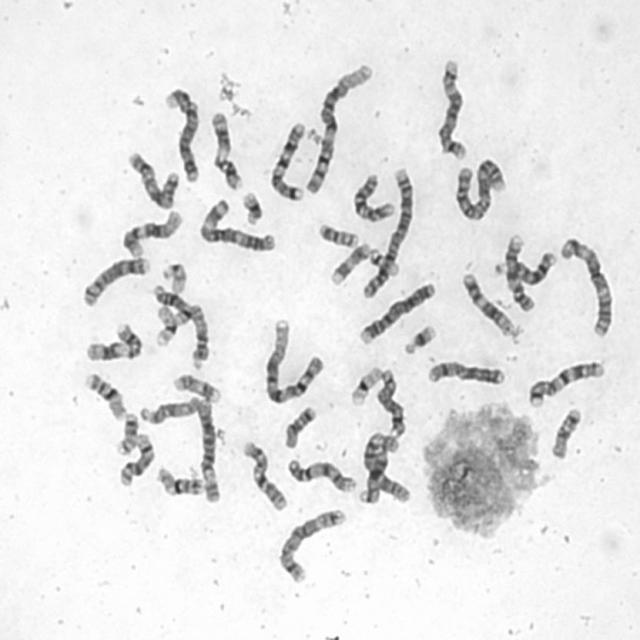A1: (304, 62, 374, 196), (260, 318, 326, 406)
A2: (362, 166, 415, 300), (453, 154, 509, 222)
A3: (558, 235, 614, 338), (198, 198, 276, 254)
B4: (358, 280, 437, 346), (162, 85, 204, 185)
B5: (274, 508, 350, 587), (436, 58, 469, 162)
C10: (237, 440, 289, 516), (352, 173, 397, 224)
C11: (84, 320, 144, 364), (210, 110, 243, 190)
C12: (462, 271, 515, 338), (121, 208, 184, 258)
C6: (360, 431, 412, 505), (194, 397, 224, 504)
C7: (526, 360, 608, 409), (268, 121, 308, 202)
C8: (80, 256, 151, 310), (375, 367, 408, 440)
C9: (286, 458, 357, 495), (503, 234, 535, 314)
D13: (493, 250, 557, 290), (357, 441, 388, 507)
D14: (116, 432, 156, 491), (152, 283, 193, 326)
D15: (139, 396, 201, 426), (187, 304, 210, 371)
E16: (85, 372, 127, 421), (152, 464, 205, 498)
E17: (328, 241, 371, 287), (172, 371, 222, 404)
E18: (548, 404, 583, 462), (280, 404, 316, 452)
F19: (347, 364, 384, 409), (152, 305, 179, 349)
F20: (316, 222, 361, 250), (115, 411, 138, 457)
G21: (401, 324, 436, 359), (241, 188, 266, 225)
G22: (367, 247, 403, 278), (159, 259, 188, 295)
X: (125, 152, 180, 210), (423, 360, 507, 389)
